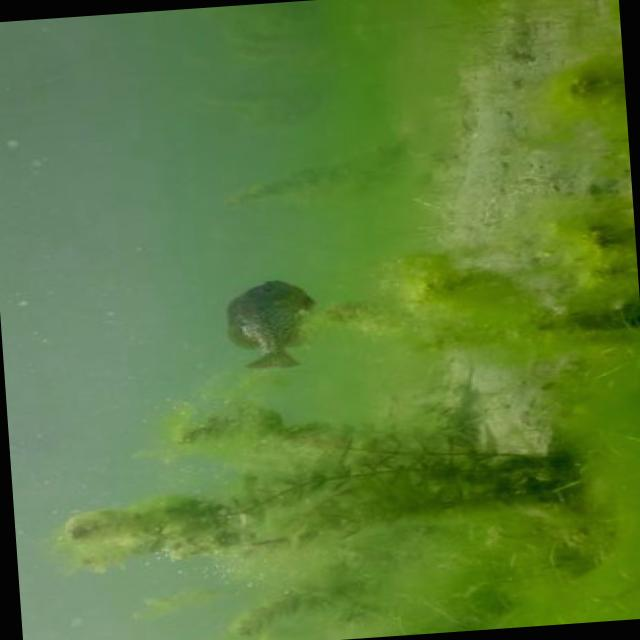Gunes Levregi: (220, 272, 318, 373)
